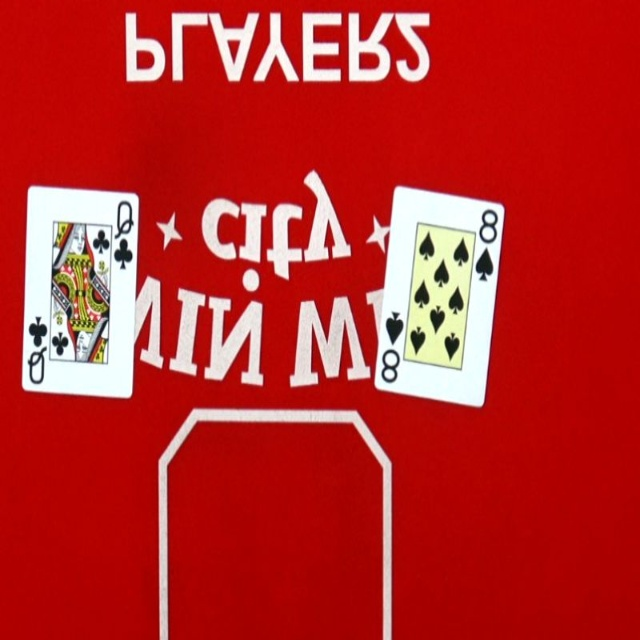8S: (374, 300, 407, 390), (473, 206, 505, 287)
QC: (111, 199, 138, 274), (22, 313, 48, 388)
